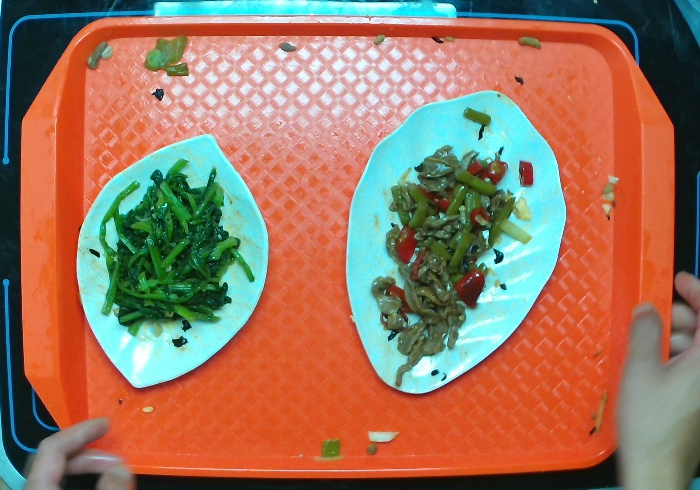RJxy-Bai_Ye_Pan: (343, 87, 568, 395)
RJxy-Da_Du_Pan: (75, 131, 271, 389)
